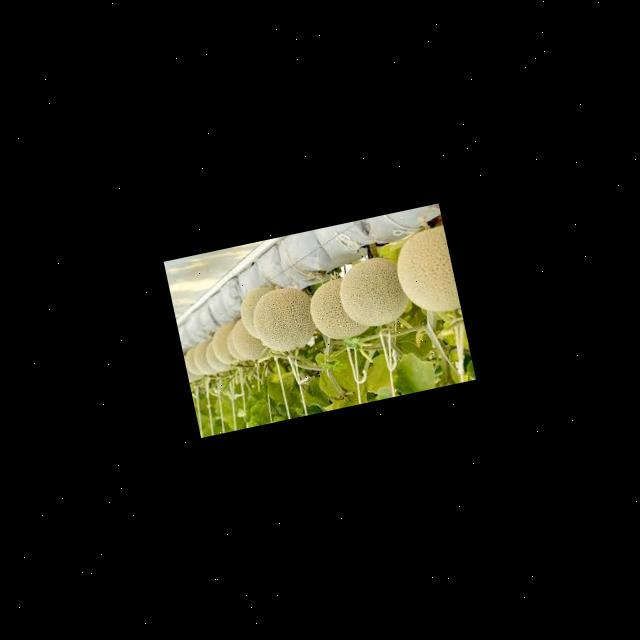Hami Melon: (391, 225, 461, 319), (334, 252, 414, 332), (250, 282, 322, 354), (305, 273, 373, 345), (228, 313, 270, 364)
